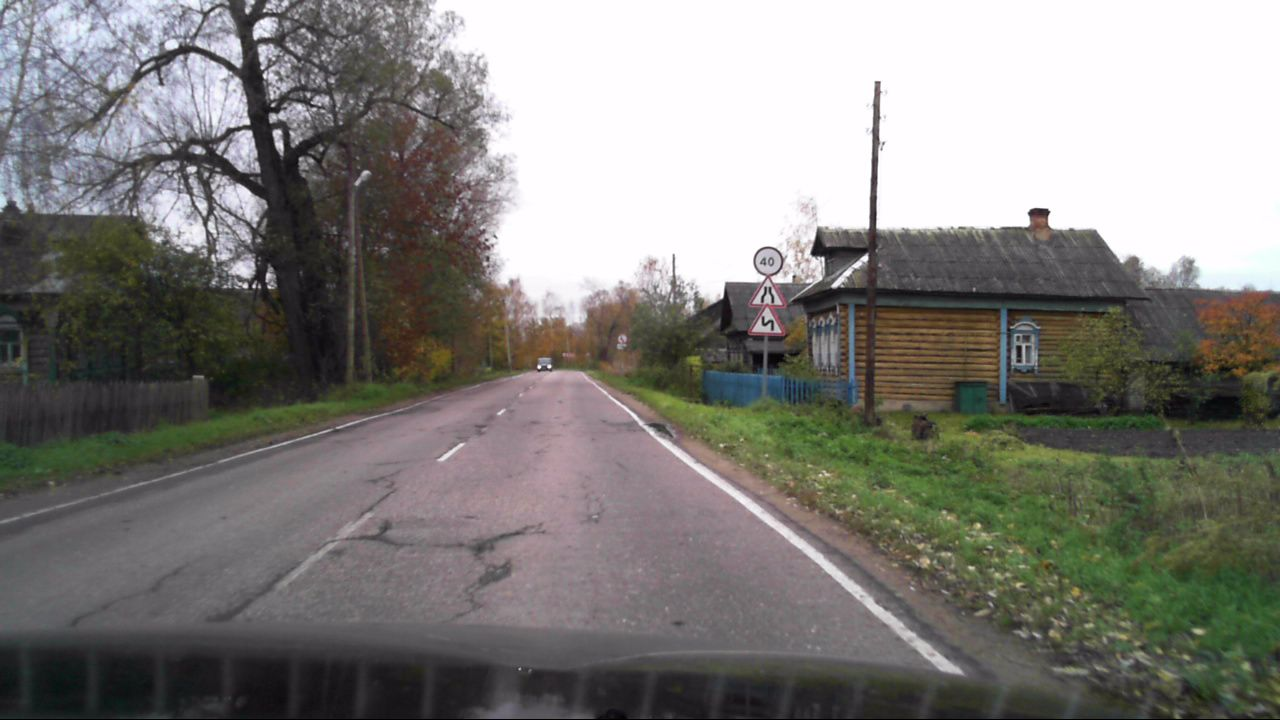speed_warning_40: (753, 246, 783, 276)
